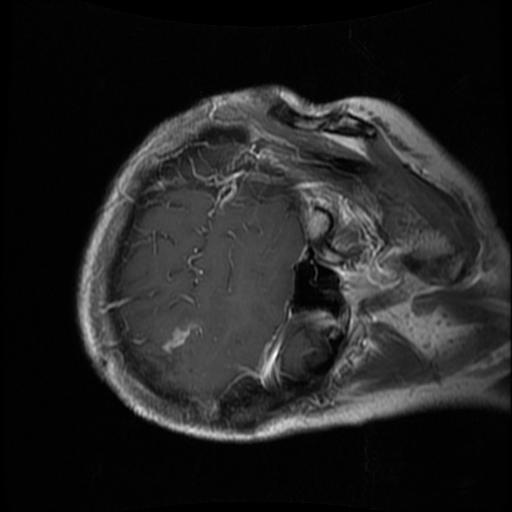glioma: (158, 319, 201, 354)
